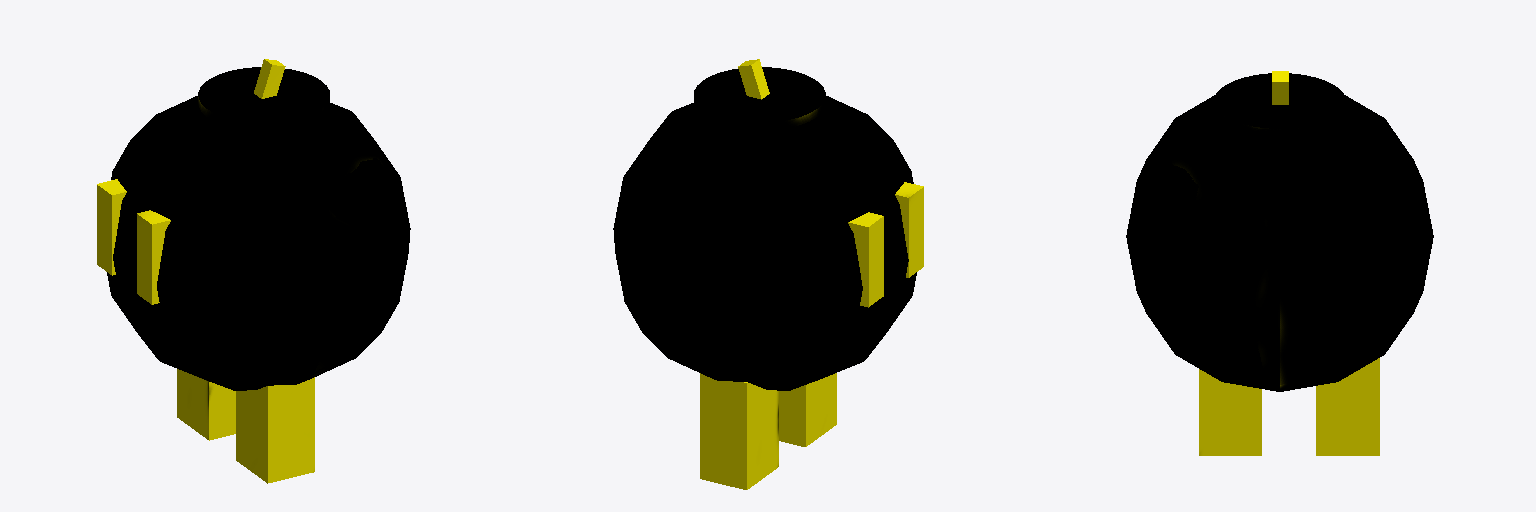
3 views of the same model, side by side, from view 1: azimuth 30°, elevation 25°; view 2: azimuth 150°, elevation 25°; view 3: azimuth 270°, elevation 25° (orthographic).
Parts seen in each view (by area): view 1: 立方体_立方体.011; view 2: 立方体_立方体.011; view 3: 立方体_立方体.011.
Part boxes in pixels (left/top/right/bottom): 立方体_立方体.011: left=97, top=59, right=410, bottom=483; 立方体_立方体.011: left=613, top=59, right=923, bottom=489; 立方体_立方体.011: left=1126, top=71, right=1433, bottom=455.
Bounding box in the file's own units: 2 × 2.74 × 2.
Materials: 1 (1 with a texture image).